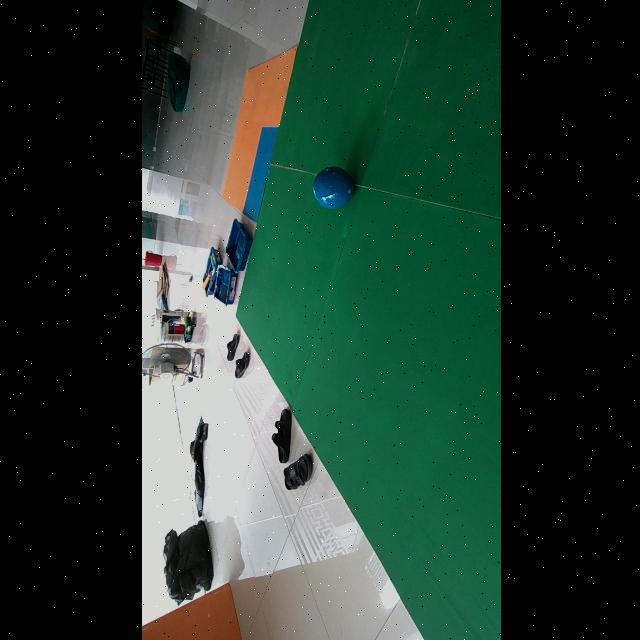B: (312, 166, 352, 210)
